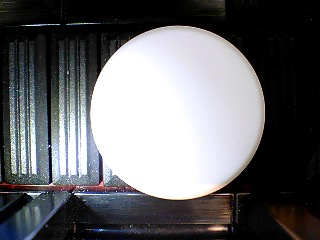BLANK: (90, 25, 266, 200)
